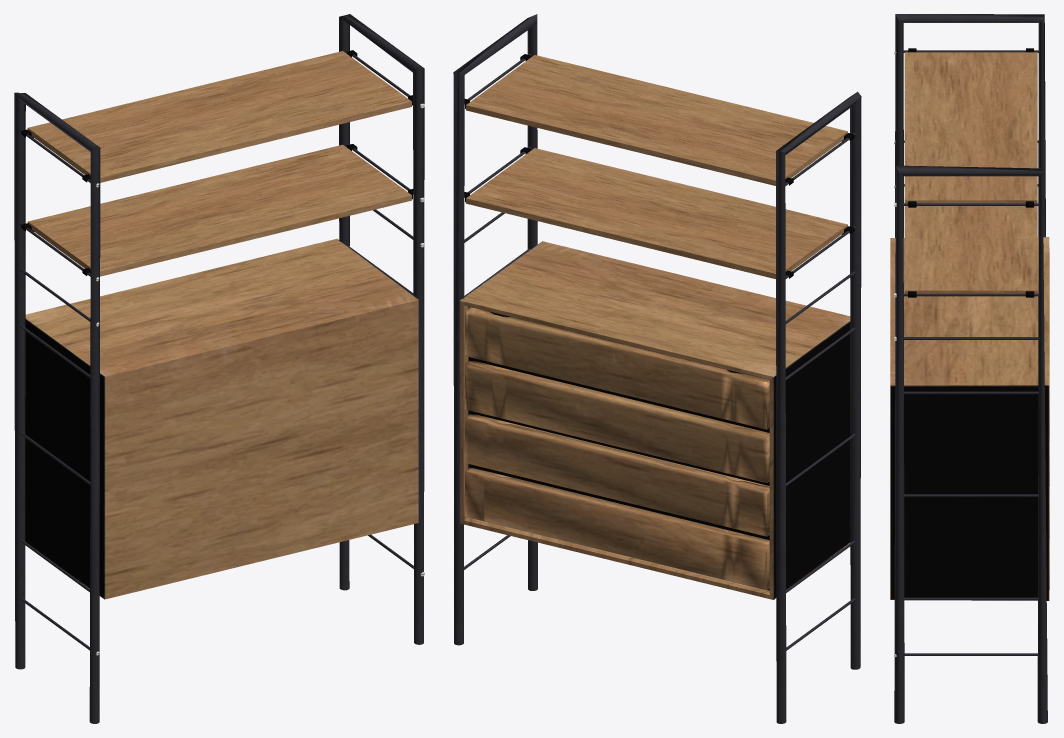
Rendered from drawers_hq.glb.
3 renders of one model, left to right at view 1: azimuth 30°, elevation 25°; view 2: azimuth 150°, elevation 25°; view 3: azimuth 270°, elevation 25°, orthographic. The views are drawn at different scales.
Parts seen in each view (by area): view 1: drawer_cabinet; view 2: drawer_cabinet; view 3: drawer_cabinet.
Boxes of the visible parts, x1,y1,x2,y2 form: drawer_cabinet: (14,14,424,723); drawer_cabinet: (453,14,861,723); drawer_cabinet: (890,14,1049,723).
Bounding box in the file's own units: 1.14 × 1.88 × 0.488.
1 material, 1 textured.
